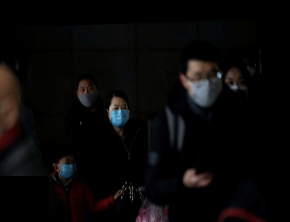with_mask: (185, 68, 221, 108), (107, 102, 130, 127), (76, 83, 97, 108), (58, 157, 75, 179)
